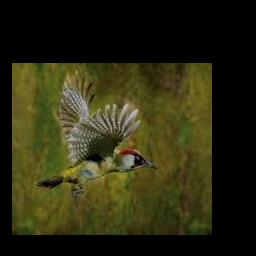Woodpecker: (34, 69, 157, 197)
